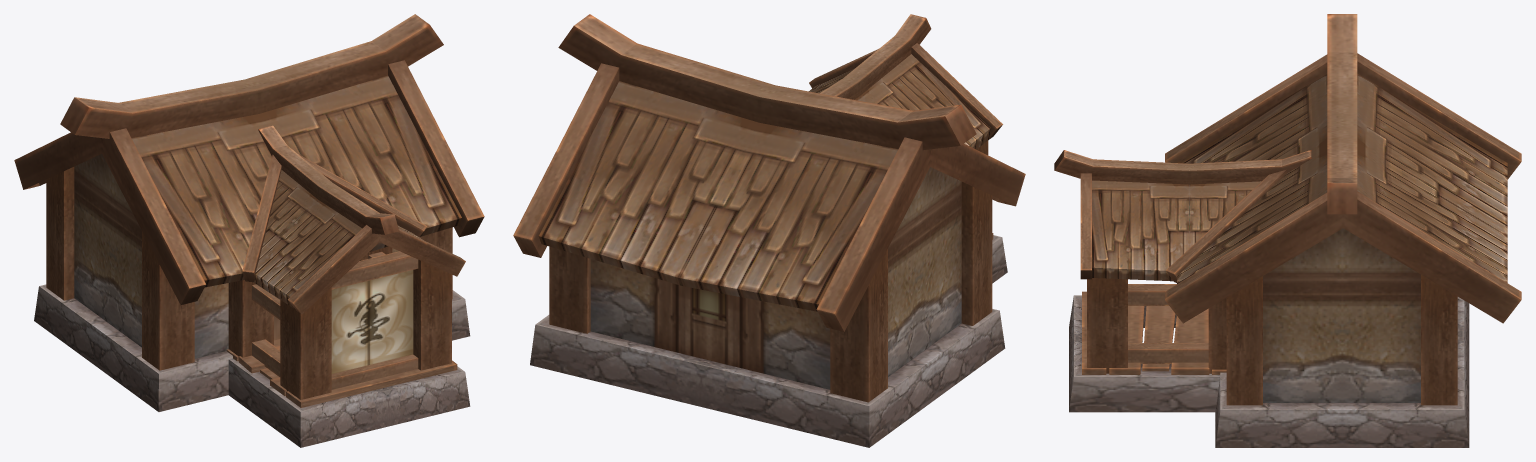
Rendered from FB_CunLuo_Fangwu03.FBX.
3 renders of one model, left to right at view 1: azimuth 30°, elevation 25°; view 2: azimuth 150°, elevation 25°; view 3: azimuth 270°, elevation 25°, orthographic. The views are drawn at different scales.
Visible parts, largest first — view 1: Box11; view 2: Box11; view 3: Box11.
Boxes of the visible parts, x1=… form: Box11: x1=14, y1=14, x2=484, y2=447; Box11: x1=513, y1=14, x2=1025, y2=447; Box11: x1=1054, y1=14, x2=1521, y2=447.
Bounding box in the file's own units: 13.42 × 9.29 × 14.46.
